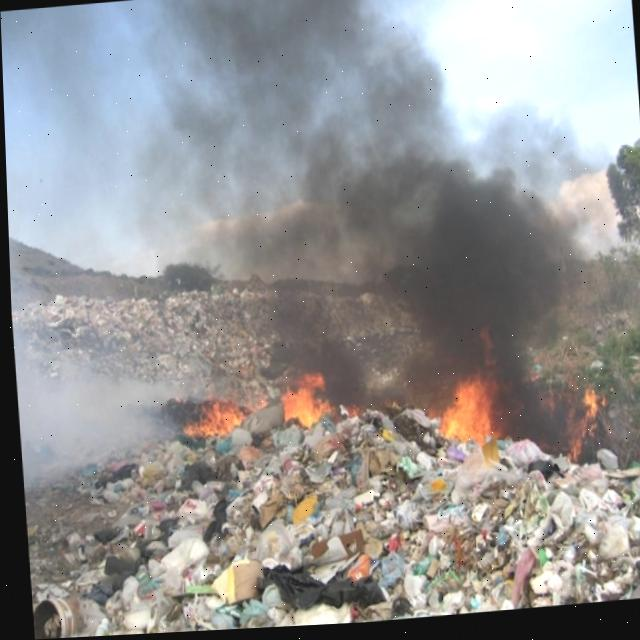fire: (396, 335, 601, 449), (276, 372, 356, 430), (157, 400, 246, 440)
smoke: (0, 0, 598, 453)
